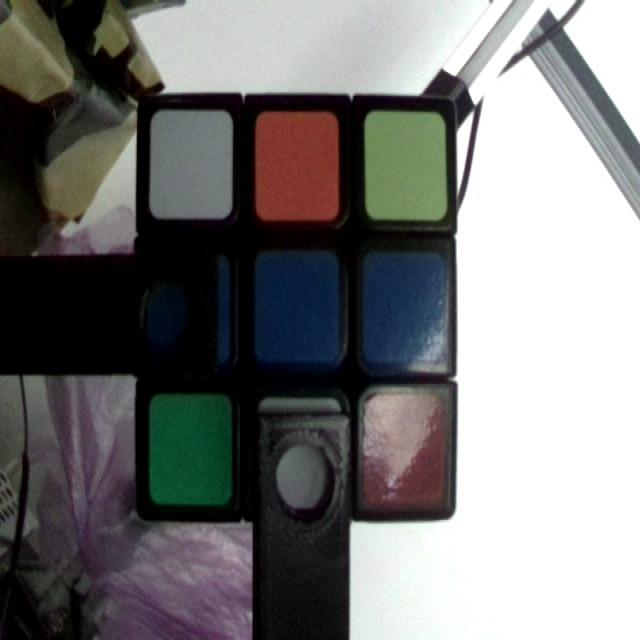b: (147, 246, 228, 364), (365, 251, 449, 362), (256, 252, 339, 358)
g: (149, 396, 230, 502)
o: (258, 111, 342, 222)
r: (361, 399, 448, 510)
w: (260, 402, 342, 511), (150, 115, 233, 216)
y: (365, 112, 447, 220)
